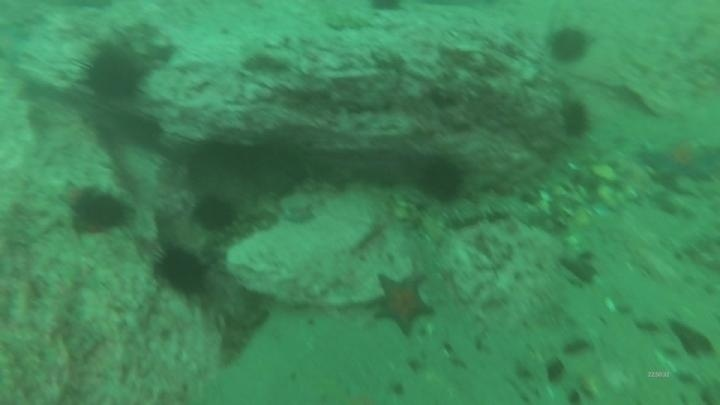echinus: (78, 41, 148, 105), (152, 243, 210, 298), (69, 188, 132, 236), (415, 154, 467, 204), (191, 192, 239, 234), (546, 25, 593, 67), (119, 111, 165, 151), (557, 97, 593, 141), (366, 0, 405, 16)
holothurian: (214, 299, 271, 369)
starfish: (368, 272, 436, 339), (636, 134, 719, 187), (56, 178, 94, 213)
